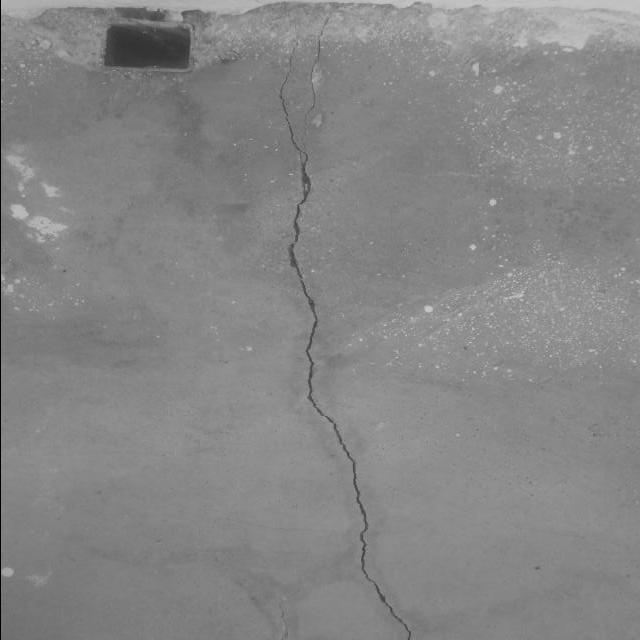SurfaceCrack: (246, 9, 449, 640)
